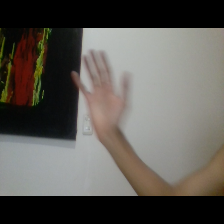left: (67, 43, 140, 134)
